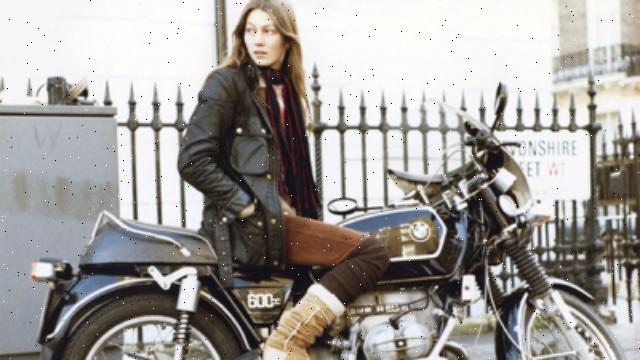Without Helmet: (232, 0, 300, 74)
